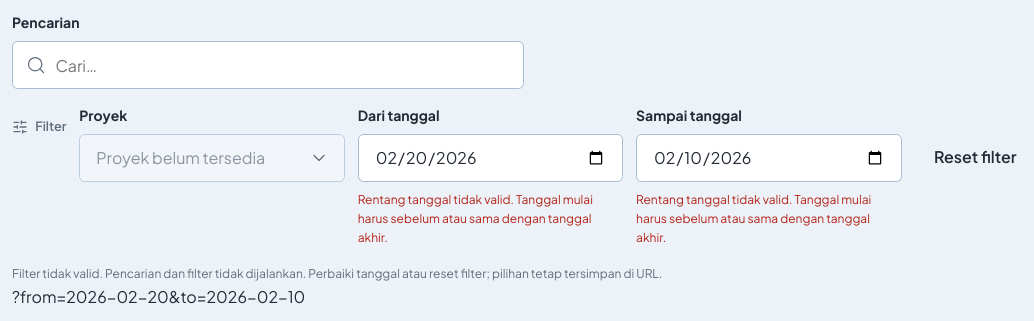
Test: Validasi lokal rentang tanggal FilterToolbar › menghapus error saat salah satu batas dikosongkan
Clear the date field labelled "Dari tanggal" at coordinates (490, 158), box top-left (358, 134), bottom-right (623, 182)
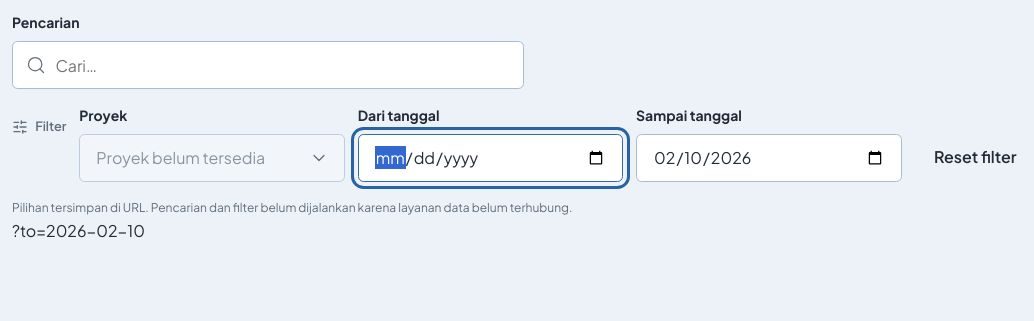
Check: the message no longer shows "Filter tidak valid.", box top-left (12, 200), bottom-right (572, 215)
Type "2026-02-20" into the date field labelled "Dari tanggal" at coordinates (490, 158), box top-left (358, 134), bottom-right (623, 182)
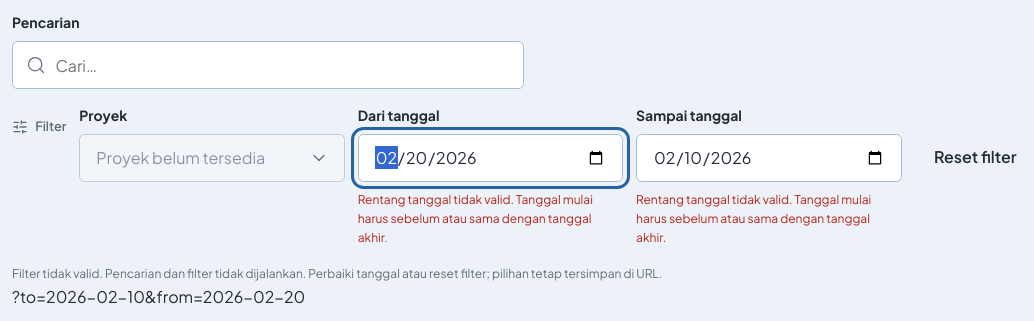
Check: the 3rd message shows "Filter tidak valid. Pencarian dan filter tidak dijalankan.", box top-left (12, 266), bottom-right (662, 281)
Clear the date field labelled "Sampai tanggal" at coordinates (769, 158), box top-left (636, 134), bottom-right (902, 182)
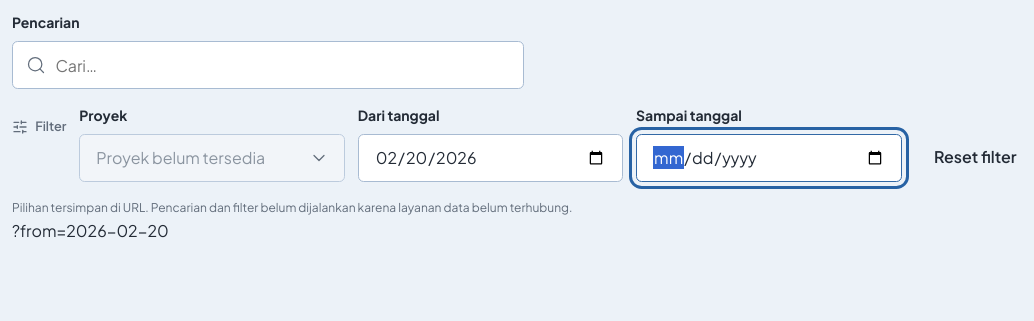
Check: the message no longer shows "Filter tidak valid.", box top-left (12, 200), bottom-right (572, 215)
